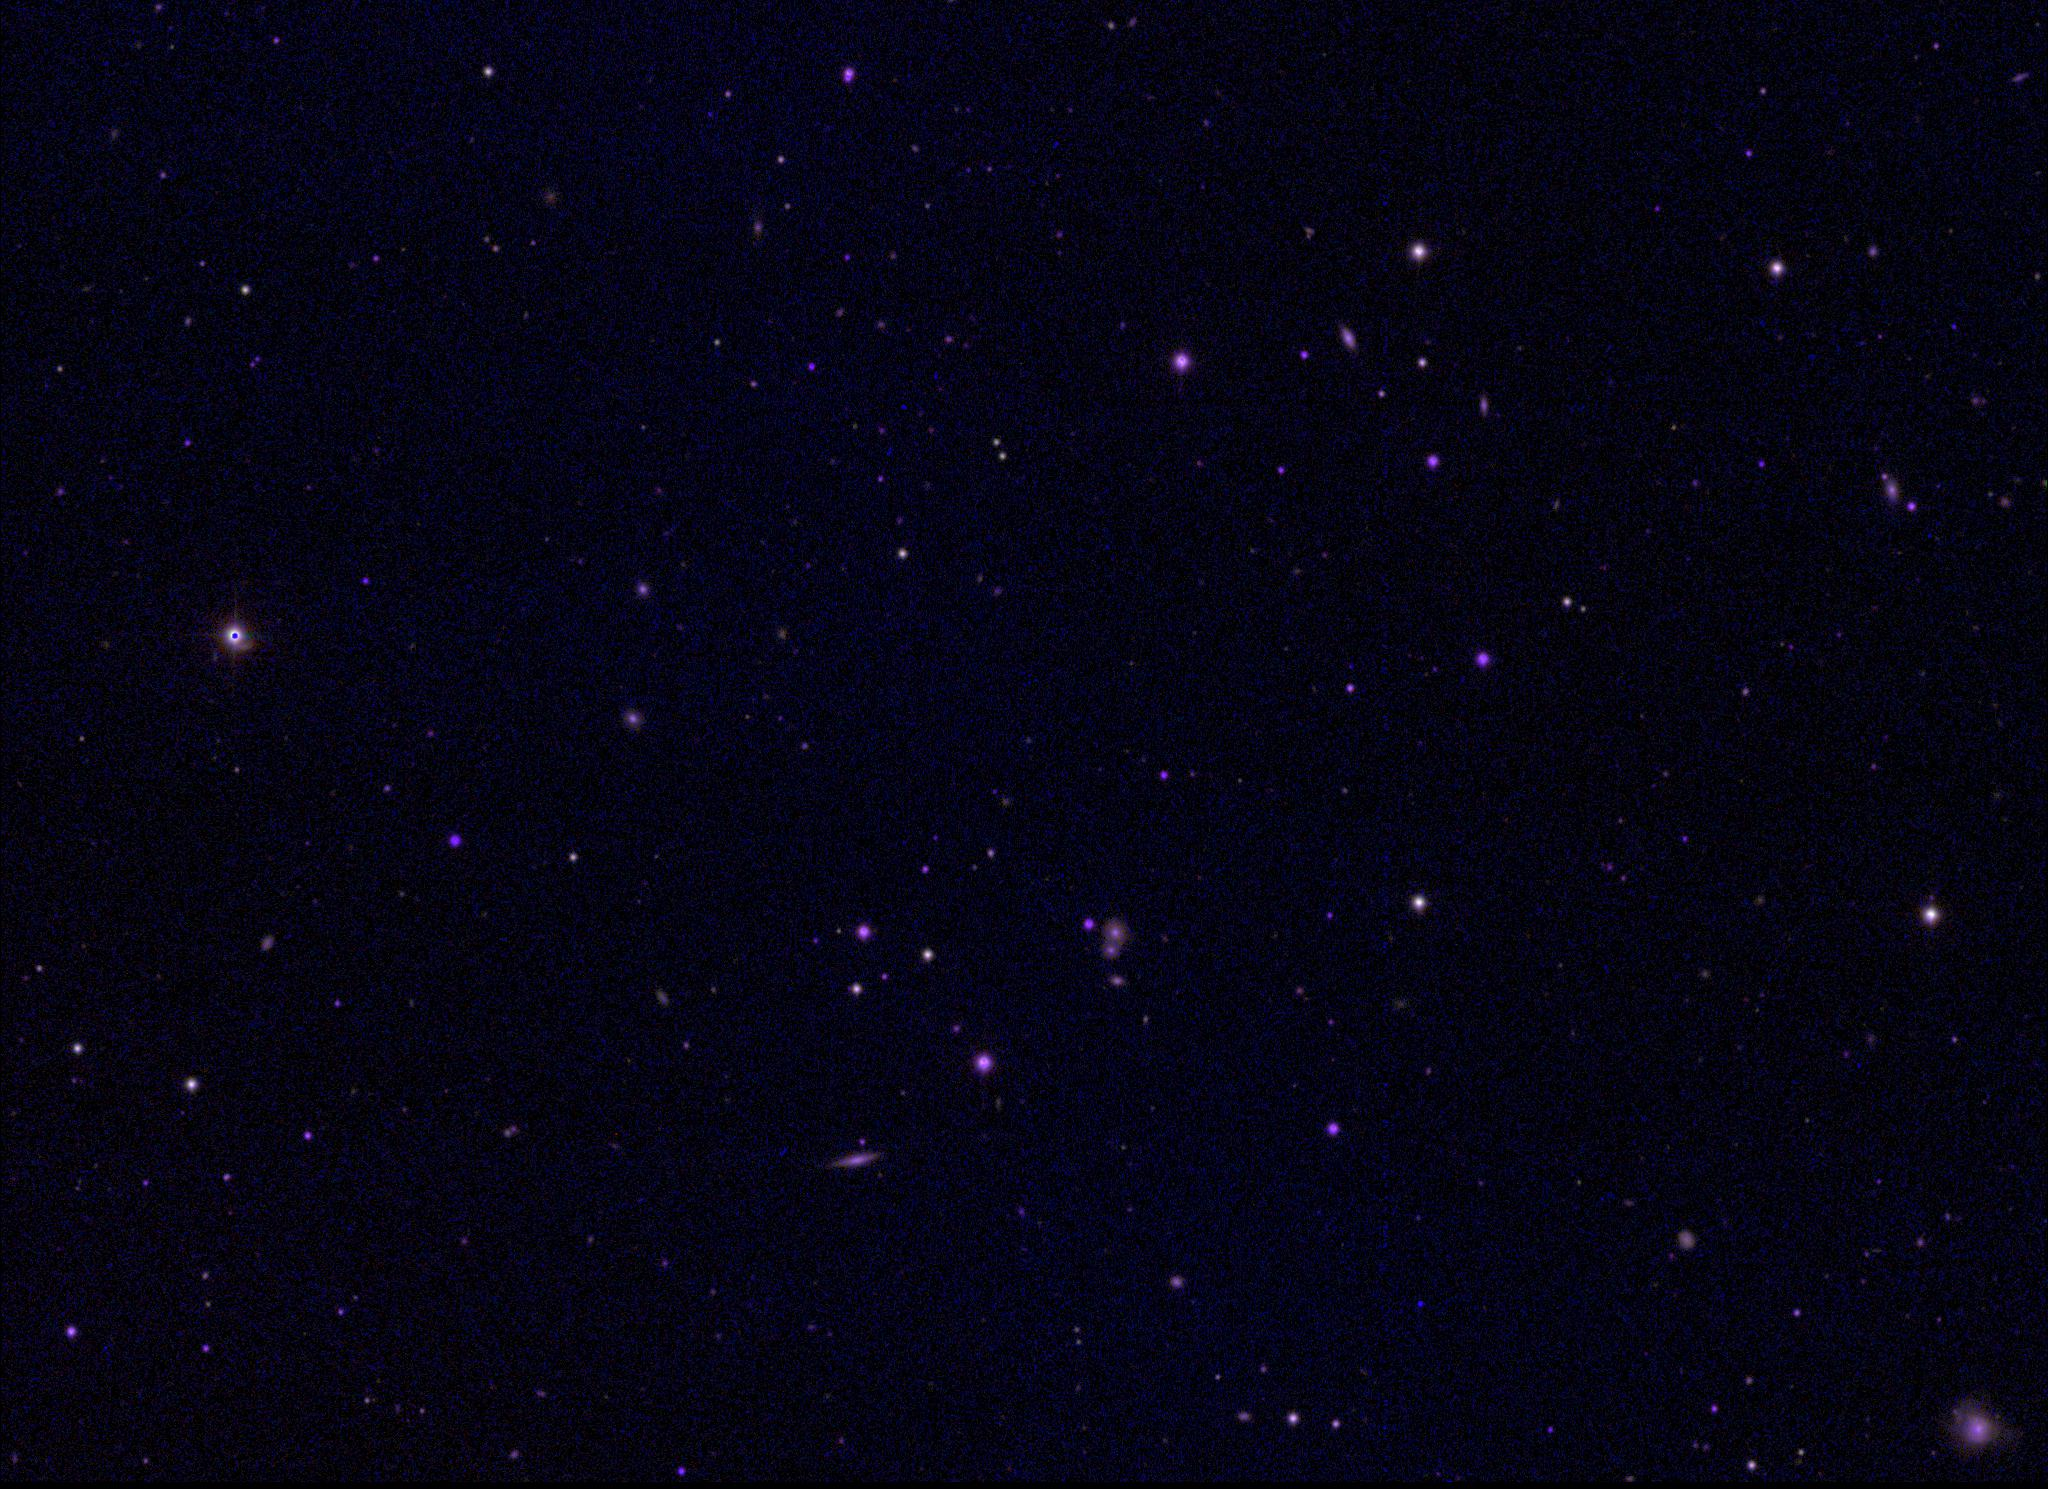L: (1414, 1297, 1428, 1311)
